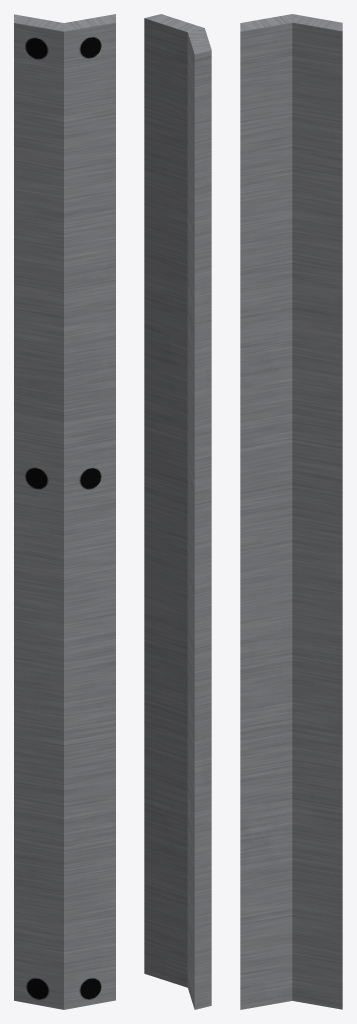
The model's file is deco1.fbx.
The picture shows the model from 3 angles, left to right: view 1: azimuth 90°, elevation 25°; view 2: azimuth 210°, elevation 25°; view 3: azimuth 270°, elevation 25°; orthographic projection. The views are drawn at different scales.
Visible parts, largest first — view 1: Walls.001; view 2: Walls.001; view 3: Walls.001.
Part boxes in pixels (x1,y1,x2,y2): Walls.001: (14, 14, 115, 1009); Walls.001: (144, 14, 211, 1009); Walls.001: (240, 14, 342, 1009).
Bounding box in the file's own units: 2.47 × 63.95 × 6.04.
